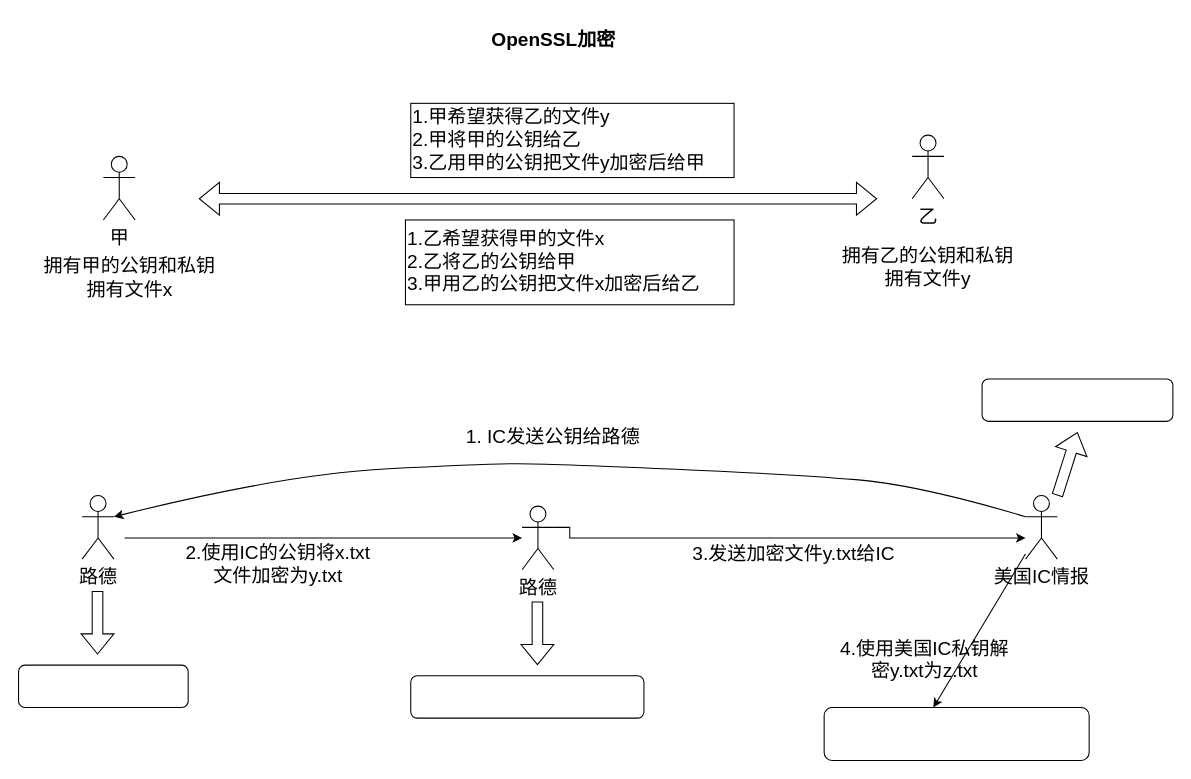
Image size: 1191x779. Some labels were removed from this diagram. The centre of each missing label's shape, as x and y in pixels:
拥有IC的公钥和私钥: point 1077,399
拥有x.txt文件: point 102,686
拥有x.txt文件和 y.txt加密文件: point 527,696
获得的z.txt文件内容与x.txt相同: point 956,733
